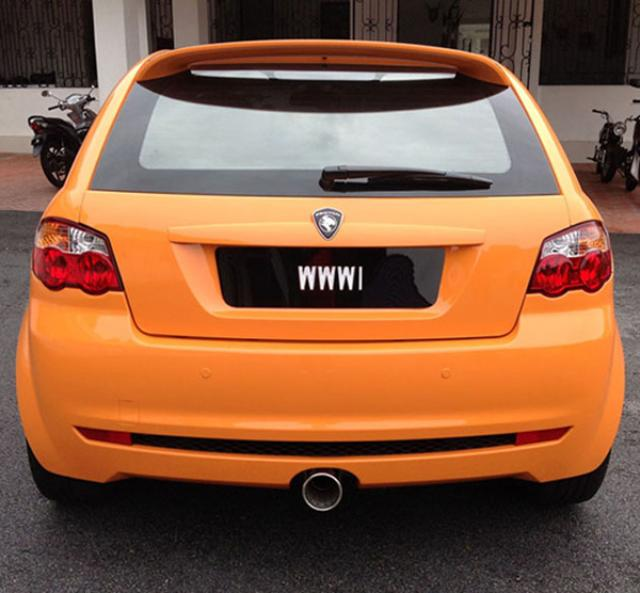License_Plate: (229, 254, 438, 307)
car: (14, 39, 623, 525)
